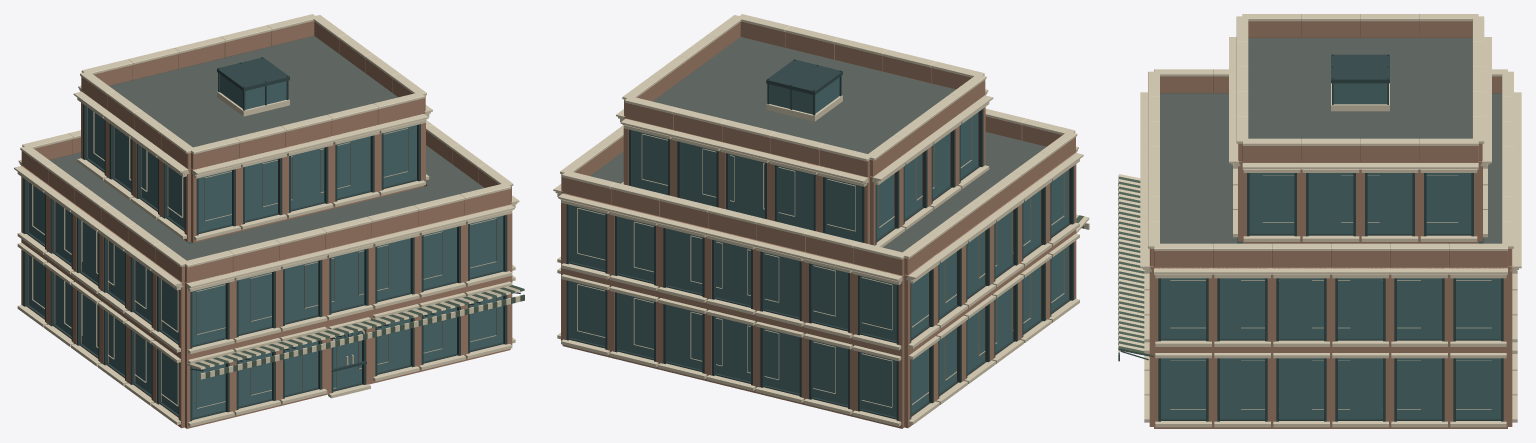
The model's file is rooftop-restaurant.glb.
The picture shows the model from 3 angles, left to right: view 1: azimuth 30°, elevation 25°; view 2: azimuth 150°, elevation 25°; view 3: azimuth 270°, elevation 25°; orthographic projection. The views are drawn at different scales.
Visible parts, largest first — view 1: Roof tower, Roof main.011, Foundation.029, main/north/1/714/glass, main/north/1/2143/glass, tower/north/2/7000/glass, tower/north/2/1000/glass, main/north/1/6429/glass, tower/north/2/5000/glass, tower/north/2/9000/glass, main/north/1/7857/glass, main/north/1/9286/glass (+104 smaller); view 2: Roof tower, Roof main.011, Foundation.029, main/south/0/714/glass.001, main/south/0/3571/glass.001, main/south/0/6429/glass.001, main/south/1/714/glass.001, main/south/1/3571/glass.001, main/south/1/6429/glass.001, tower/south/2/7000/glass, tower/south/2/3000/glass, main/south/1/9286/glass.001 (+105 smaller); view 3: Roof tower, Roof main.011, tower/east/2/1250/glass, tower/east/2/3750/glass, tower/east/2/6250/glass, tower/east/2/8750/glass, main/east/0/833/glass, main/east/0/2500/glass, main/east/0/4167/glass, main/east/0/5833/glass.002, main/east/0/7500/glass.002, main/east/0/9167/glass.002 (+112 smaller).
Boxes of the visible parts, box(x1,y1,x2,y2) form: Roof tower: box(109, 36, 397, 168); Roof main.011: box(49, 145, 483, 281); Foundation.029: box(32, 112, 496, 408); main/north/1/714/glass: box(192, 283, 225, 345); main/north/1/2143/glass: box(238, 272, 271, 333); tower/north/2/7000/glass: box(337, 136, 370, 198); tower/north/2/1000/glass: box(198, 170, 231, 231); main/north/1/6429/glass: box(377, 238, 410, 299); tower/north/2/5000/glass: box(291, 147, 324, 209); tower/north/2/9000/glass: box(383, 125, 416, 186); main/north/1/7857/glass: box(423, 227, 456, 288); main/north/1/9286/glass: box(470, 215, 503, 277); Roof tower: box(652, 37, 955, 176); Roof main.011: box(590, 132, 1046, 274); Foundation.029: box(577, 117, 1064, 407); main/south/0/714/glass.001: box(861, 352, 896, 417); main/south/0/3571/glass.001: box(764, 329, 799, 393); main/south/0/6429/glass.001: box(667, 305, 702, 369); main/south/1/714/glass.001: box(861, 276, 896, 340); main/south/1/3571/glass.001: box(764, 252, 799, 317); main/south/1/6429/glass.001: box(667, 229, 702, 293); tower/south/2/7000/glass: box(681, 142, 716, 206); tower/south/2/3000/glass: box(778, 166, 813, 230); main/south/1/9286/glass.001: box(570, 205, 605, 269); Roof tower: box(1248, 38, 1472, 138); Roof main.011: box(1160, 93, 1501, 243); tower/east/2/1250/glass: box(1426, 173, 1471, 233); tower/east/2/3750/glass: box(1367, 173, 1412, 233); tower/east/2/6250/glass: box(1308, 173, 1353, 233); tower/east/2/8750/glass: box(1249, 173, 1294, 233); main/east/0/833/glass: box(1456, 358, 1500, 418); main/east/0/2500/glass: box(1397, 358, 1441, 418); main/east/0/4167/glass: box(1338, 358, 1382, 418); main/east/0/5833/glass.002: box(1279, 358, 1323, 418); main/east/0/7500/glass.002: box(1220, 358, 1264, 418); main/east/0/9167/glass.002: box(1161, 358, 1205, 418).
Bounding box in the file's own units: 14.92 × 10.33 × 13.67.
